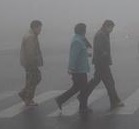person: (76, 19, 125, 112), (54, 22, 95, 113), (18, 19, 45, 107)
